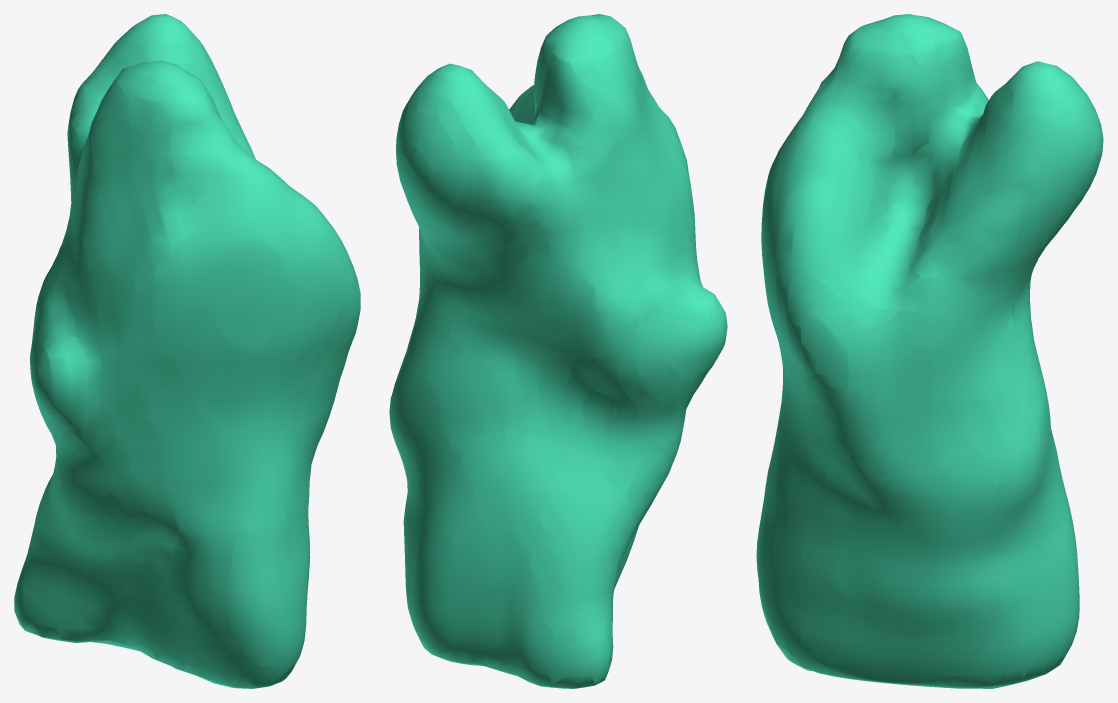
3 renders of one model, left to right at view 1: azimuth 30°, elevation 25°; view 2: azimuth 150°, elevation 25°; view 3: azimuth 270°, elevation 25°, orthographic. The views are drawn at different scales.
Visible parts, largest first — view 1: Liquid_Domain; view 2: Liquid_Domain; view 3: Liquid_Domain.
Boxes of the visible parts, <box> form: Liquid_Domain: <box>14,14,360,688</box>; Liquid_Domain: <box>389,14,727,688</box>; Liquid_Domain: <box>756,14,1103,688</box>.
Size of the model in its own units: 3 by 6.01 by 3.03.
